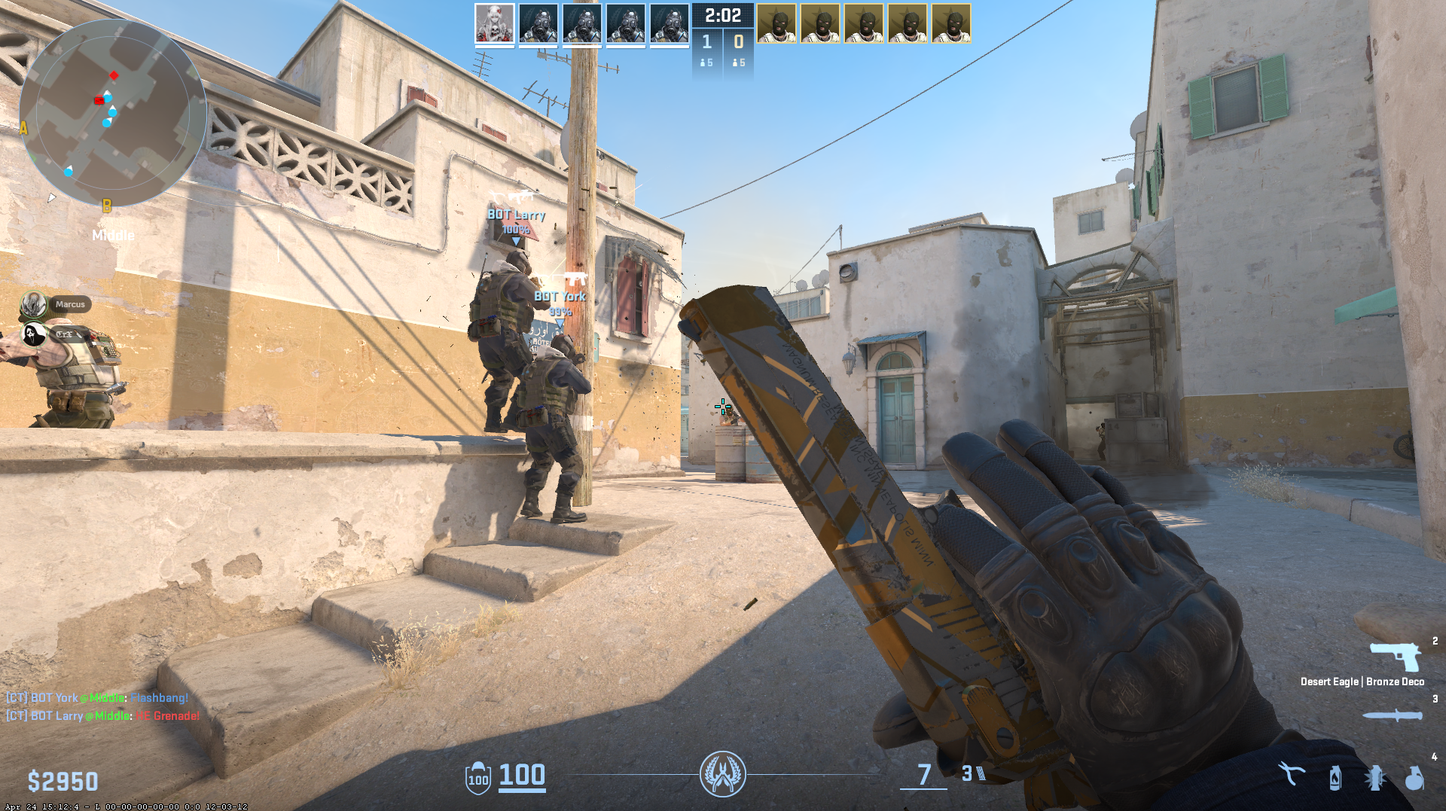CT: (524, 333, 594, 520), (469, 248, 528, 431)
T: (4, 345, 117, 428)
